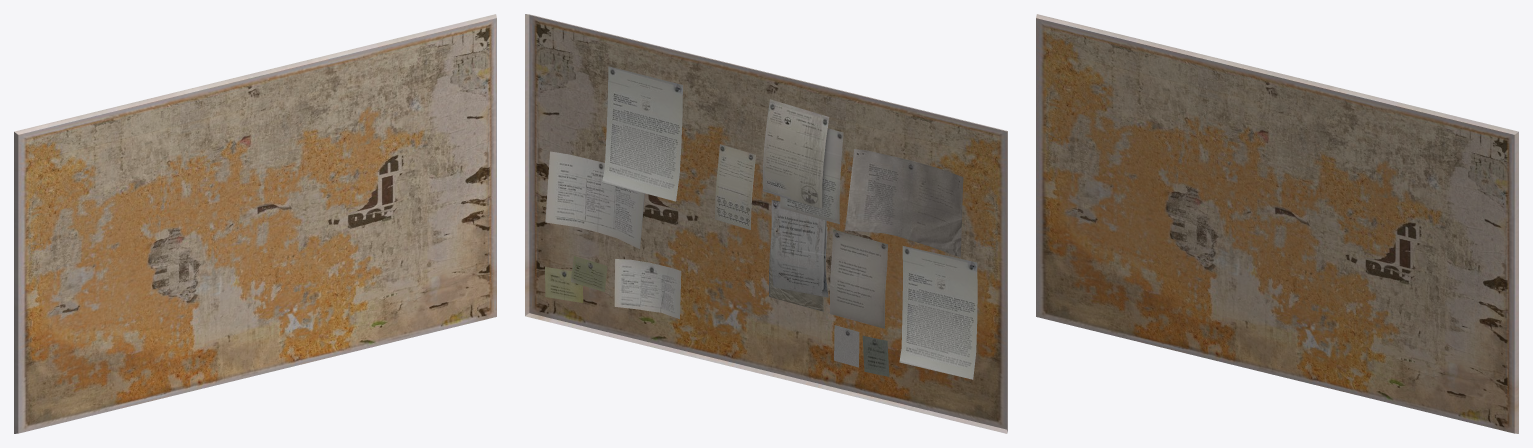
File: TableroLobby.fbx
3 renders of one model, left to right at view 1: azimuth 30°, elevation 25°; view 2: azimuth 150°, elevation 25°; view 3: azimuth 330°, elevation 25°, orthographic.
Parts seen in each view (by area): view 1: main.109; view 2: main.109, main.004; view 3: main.109.
Part boxes in pixels (box(x1,y1,x2,y2)): main.109: box(14, 14, 496, 433); main.109: box(525, 14, 1007, 433); main.004: box(545, 66, 977, 379); main.109: box(1036, 14, 1518, 433).
Size of the model in its own units: 342 by 205 by 15.53.
Materials: 2 (2 with a texture image).
